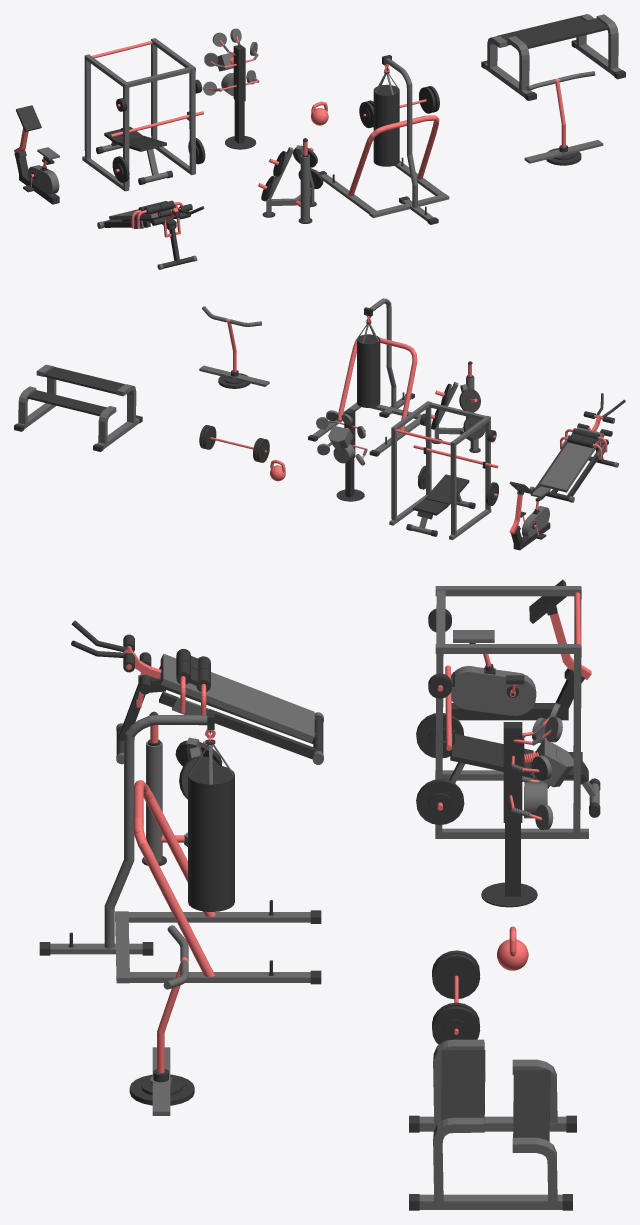
The model's file is gym_equip.glb.
3 renders of one model, top to bottom at view 1: azimuth 30°, elevation 25°; view 2: azimuth 150°, elevation 25°; view 3: azimuth 270°, elevation 25°, orthographic. The views are drawn at different scales.
Visible parts, largest first — view 1: Punching_bag, Shelf_2, Stand_1, Cage_left_2, Cage_right_1, Pole, Cage_left_1, Shelf_1, Cage_right_2, Foot_part, Leg_2, Leg_4 (+8 smaller); view 2: Seat (×2), Punching_bag, Shelf_2, Shelf_1, Back, Cage_right_1, Cage_left_1, Cage_left_2, Foot_part, Cage_right_2, Stand; view 3: Punching_bag, Seat, Shelf_2, Shelf_1, Leg_32, Stand (×2), Stand_1, Leg_4, Leg_3, Larger_cylinder_4, Back, arm_1 (+18 smaller).
Boxes of the visible parts, x1=… form: Punching_bag: x1=373, y1=84, x2=399, y2=166; Shelf_2: x1=517, y1=18, x2=608, y2=48; Stand_1: x1=233, y1=44, x2=245, y2=102; Cage_left_2: x1=189, y1=71, x2=195, y2=171; Cage_right_1: x1=84, y1=59, x2=90, y2=159; Pole: x1=300, y1=154, x2=309, y2=221; Cage_left_1: x1=151, y1=40, x2=157, y2=139; Shelf_1: x1=497, y1=16, x2=584, y2=45; Cage_right_2: x1=123, y1=86, x2=129, y2=187; Foot_part: x1=524, y1=140, x2=603, y2=163; Leg_2: x1=369, y1=193, x2=449, y2=218; Leg_4: x1=321, y1=174, x2=376, y2=213; Seat (×2): x1=413, y1=427, x2=604, y2=515; Punching_bag: x1=357, y1=334, x2=380, y2=407; Shelf_2: x1=43, y1=367, x2=124, y2=394; Shelf_1: x1=27, y1=390, x2=106, y2=416; Back: x1=425, y1=474, x2=469, y2=505; Cage_right_1: x1=450, y1=443, x2=456, y2=535; Cage_left_1: x1=391, y1=428, x2=397, y2=520; Cage_left_2: x1=425, y1=407, x2=431, y2=494; Foot_part: x1=199, y1=365, x2=269, y2=386; Cage_right_2: x1=485, y1=420, x2=490, y2=509; Stand: x1=345, y1=458, x2=354, y2=497; Punching_bag: x1=188, y1=765, x2=234, y2=911; Seat: x1=160, y1=653, x2=314, y2=742; Shelf_2: x1=441, y1=1050, x2=485, y2=1121; Shelf_1: x1=513, y1=1070, x2=550, y2=1141; Leg_32: x1=419, y1=1194, x2=562, y2=1209; Stand (×2): x1=129, y1=823, x2=520, y2=1105; Stand_1: x1=503, y1=722, x2=522, y2=822; Leg_4: x1=128, y1=912, x2=310, y2=922; Leg_3: x1=128, y1=972, x2=310, y2=982; Larger_cylinder_4: x1=432, y1=954, x2=480, y2=998; Back: x1=450, y1=733, x2=533, y2=777; arm_1: x1=159, y1=691, x2=316, y2=759.
Bounding box in the file's own units: 0.132 × 0.0295 × 0.0624.
